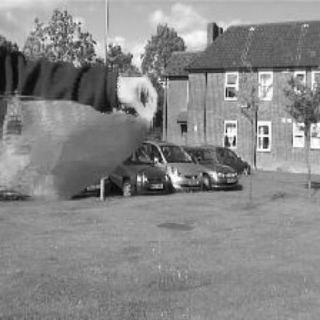other: (2, 92, 142, 202)
